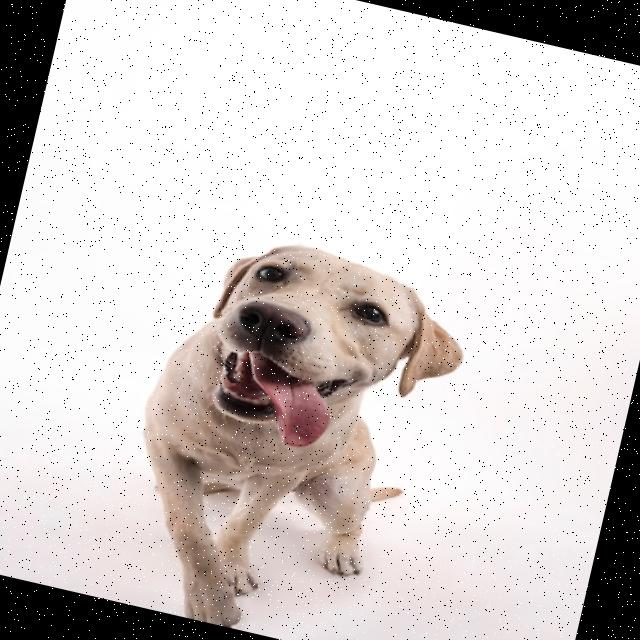Dog: (104, 218, 480, 640)
